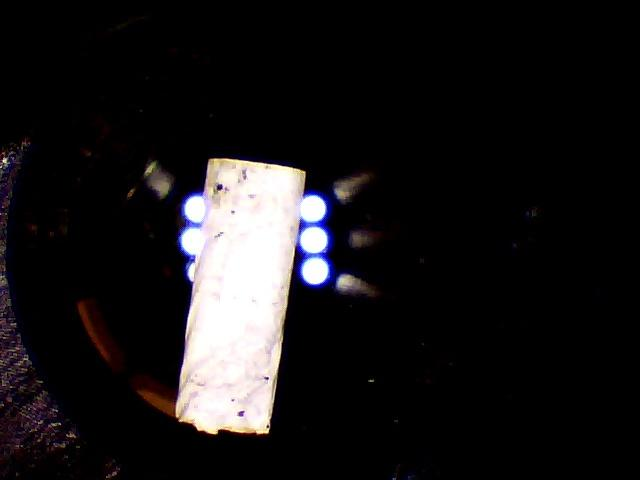megot: (173, 145, 310, 447)
